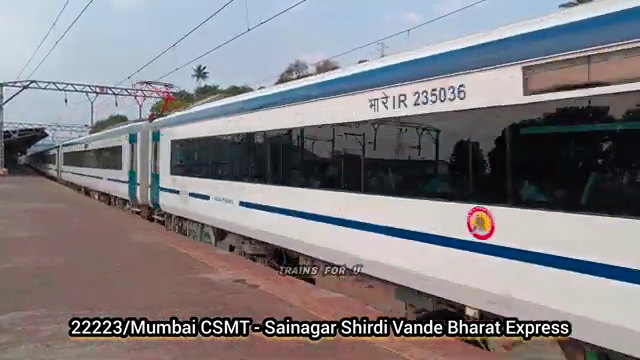Boogie: (405, 82, 478, 109)
